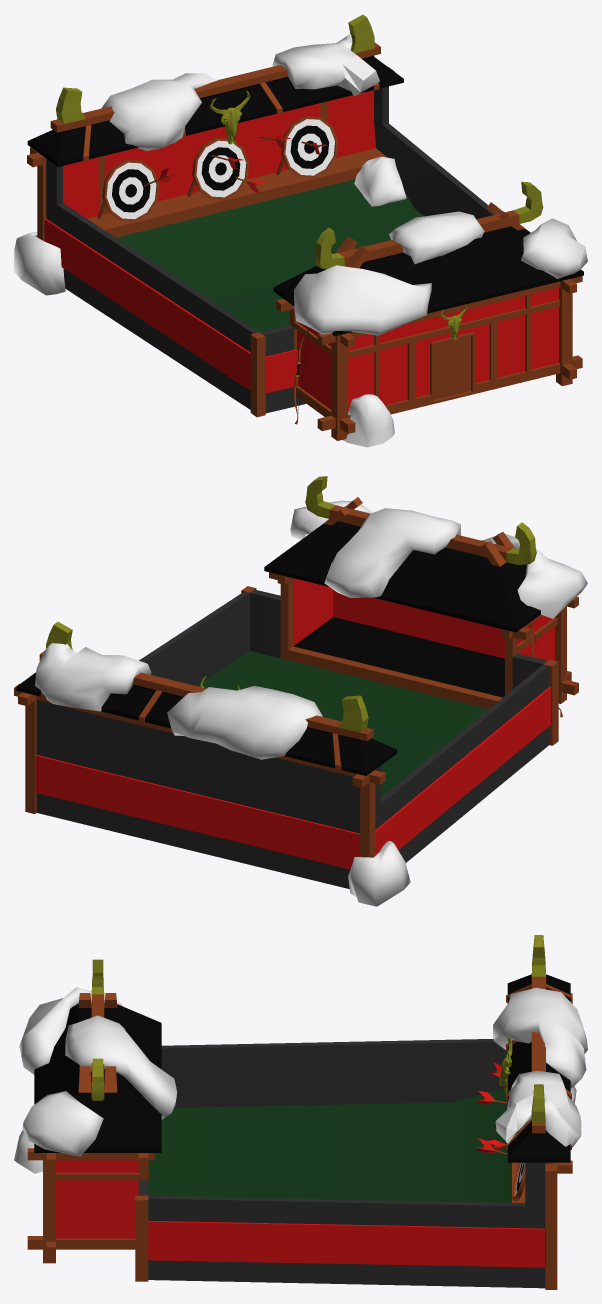
File: archer mit schnee.FBX
3 views of the same model, one above another, from view 1: azimuth 30°, elevation 25°; view 2: azimuth 150°, elevation 25°; view 3: azimuth 270°, elevation 25° (orthographic). The views are drawn at different scales.
Visible parts, largest first — view 1: archer; view 2: archer; view 3: archer.
Part boxes in pixels (bbox=[...]): archer: bbox=[14, 14, 587, 447]; archer: bbox=[14, 476, 587, 906]; archer: bbox=[14, 935, 587, 1289].
Size of the model in its own units: 67.77 by 33.14 by 86.36.
